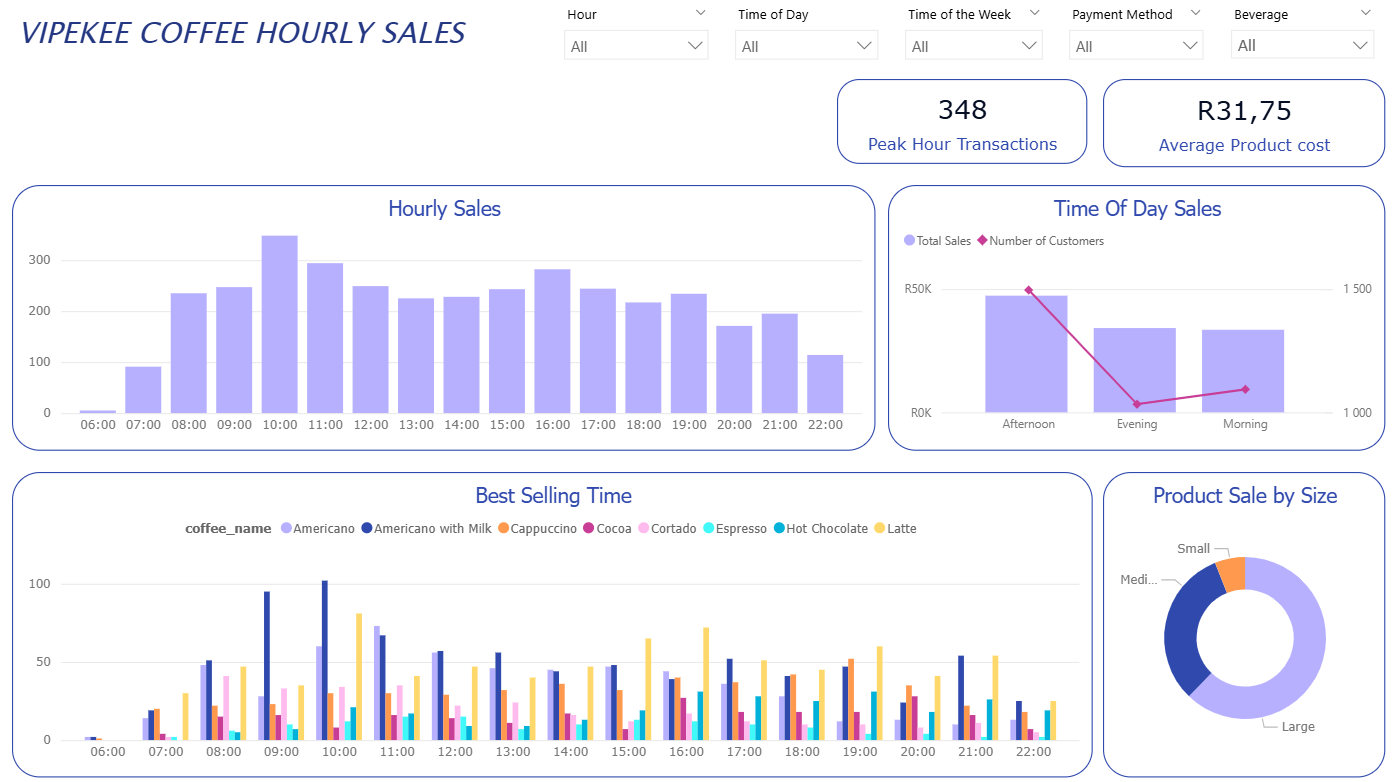

Layout of this report page (visuals, bound fields, positions):
{"tool":"powerbi","page":{"name":"Hourly report","canvas":[1280,720],"ordinal":1},"visuals":[{"type":"clusteredColumnChart","title":"Hourly Sales ","fields":{"Category":["Coffee_Shop_Facts.Hour Label"],"Y":["Coffee_Shop_Facts.Total Transactions"]},"box":[18.1,172.3,782.6,241.2],"z":0},{"type":"slicer","fields":{"Values":["Dim_Payment.Day_Type"]},"box":[817.9,3.6,145.1,65.3],"z":1000},{"type":"lineStackedColumnComboChart","title":"Time Of Day Sales","fields":{"Category":["Dim_time.TimeOfDay"],"Y":["Sum(Coffee_Shop_Facts.money)"],"Y2":["CountNonNull(Coffee_Shop_Facts.card)"]},"box":[812.5,172.3,450.7,241.2],"z":2000},{"type":"slicer","fields":{"Values":["Dim_time.TimeOfDay"]},"box":[664.2,3.6,149.6,65.3],"z":3000},{"type":"slicer","fields":{"Values":["Coffee_Shop_Facts.PaymentMethod"]},"box":[967.1,3.6,142.4,65.3],"z":4000},{"type":"cardVisual","fields":{"Data":["Avg(Coffee_Shop_Facts.money)"]},"box":[1007.5,76.2,255.7,79.8],"z":7000},{"type":"slicer","fields":{"Values":["Coffee_Shop_Facts.coffee_name"]},"box":[1113.6,3.6,149.6,65.3],"z":10000},{"type":"donutChart","title":"Product Sale by Size","fields":{"Category":["Coffee_Shop_Facts.size"],"Y":["Sum(Coffee_Shop_Facts.money)"]},"box":[1007.5,432.5,255.7,277.5],"z":11000},{"type":"clusteredColumnChart","title":"Best Selling Time ","fields":{"Category":["Coffee_Shop_Facts.Hour Label"],"Series":["Coffee_Shop_Facts.coffee_name"],"Y":["Coffee_Shop_Facts.Total Transactions"]},"box":[18.1,432.5,980.3,277.5],"z":12000},{"type":"slicer","fields":{"Values":["Coffee_Shop_Facts.Hour"]},"box":[508.7,3.6,151.4,58.9],"z":13000},{"type":"cardVisual","fields":{"Data":["Coffee_Shop_Facts.Peak Hour Transactions"]},"box":[766.2,76.2,226.7,77.1],"z":14000},{"type":"textbox","box":[18.1,10,458.8,52.6],"z":14001}]}

Visuals, with their boxes in screenshot pixels (x1, y1, x2, y2), scaled from the page's 1280x720 canvas onto the 1397x782 screenshot:
"Hourly Sales " clusteredColumnChart: 20:187:874:449
slicer - Dim_Payment.Day_Type: 893:4:1051:75
"Time Of Day Sales" lineStackedColumnComboChart: 887:187:1379:449
slicer - Dim_time.TimeOfDay: 725:4:888:75
slicer - Coffee_Shop_Facts.PaymentMethod: 1055:4:1211:75
cardVisual - Avg(Coffee_Shop_Facts.money): 1100:83:1379:169
slicer - Coffee_Shop_Facts.coffee_name: 1215:4:1379:75
"Product Sale by Size" donutChart: 1100:470:1379:771
"Best Selling Time " clusteredColumnChart: 20:470:1090:771
slicer - Coffee_Shop_Facts.Hour: 555:4:720:68
cardVisual - Coffee_Shop_Facts.Peak Hour Transactions: 836:83:1084:167
textbox: 20:11:520:68
